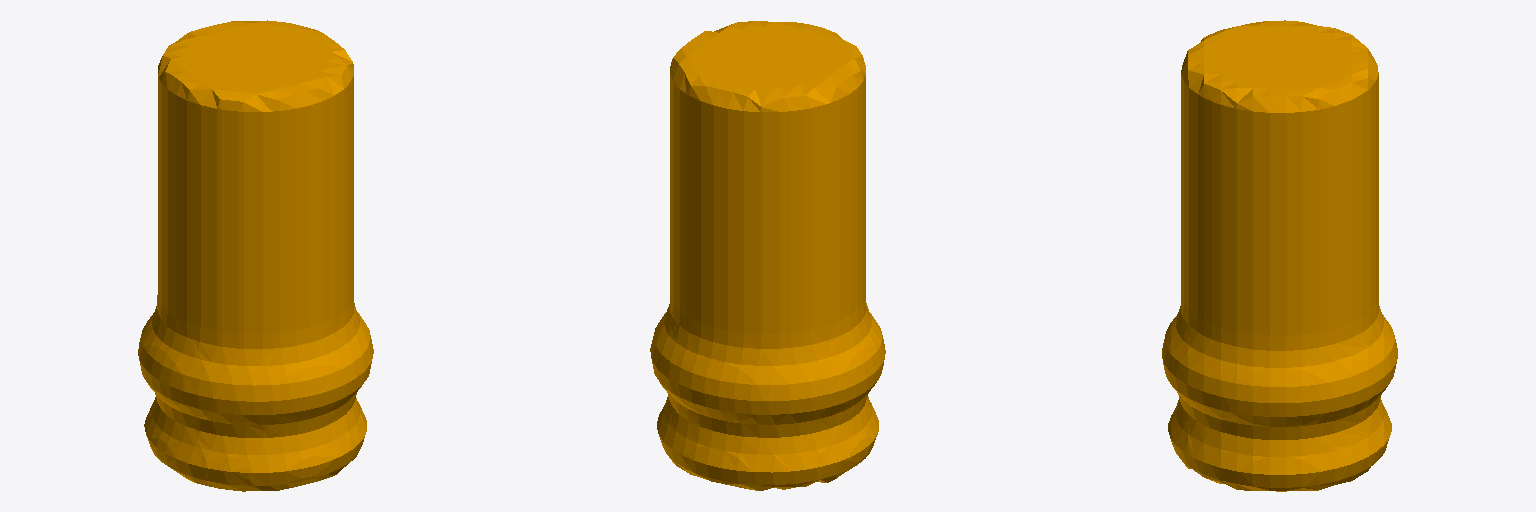
URDF robot description (cylinder_../../meshes/cylinders/cylinder_57.stl):
<?xml version="1.0" encoding="utf-8"?>  <robot name="cylinder_../../meshes/cylinders/cylinder_57.stl">   <link name="cylinder_../../meshes/cylinders/cylinder_57.stl">     <visual>       <geometry>         <mesh filename="../meshes/cylinders/cylinder_57.stl" scale="1 1 1"/>       </geometry>     </visual>     <collision>       <geometry>         <mesh filename="../meshes/cylinders/cylinder_57.stl" scale="1 1 1"/>       </geometry>     </collision>     <inertial>        <origin         xyz="0 0 0"         rpy="0 0 0" />       <mass value="0.4052027371093162"/>       <origin rpy="0 0 0" xyz="0 0 0"/>       <inertia ixx="0.0006986138518345117" ixy="-3.459705476784931e-08" ixz="3.5248258246727676e-08" iyy="0.00069861215583934" iyz="2.532620920128733e-08" izz="0.00019922195457953501"/>     </inertial>   </link>  </robot>

--- What the picture shows (computed from the rendered views, not written in the file) ---
The picture shows the robot from 3 angles, left to right: view 1: azimuth 30°, elevation 25°; view 2: azimuth 150°, elevation 25°; view 3: azimuth 270°, elevation 25°; orthographic projection.
Model cylinder_../../meshes/cylinders/cylinder_57.stl with 1 links and 0 joints (none), rooted at cylinder_../../meshes/cylinders/cylinder_57.stl, posed all joints at 0.
Visible links, largest first — view 1: cylinder_../../meshes/cylinders/cylinder_57.stl; view 2: cylinder_../../meshes/cylinders/cylinder_57.stl; view 3: cylinder_../../meshes/cylinders/cylinder_57.stl.
Boxes of the visible links, x1,y1,x2,y2 form: cylinder_../../meshes/cylinders/cylinder_57.stl: [138, 20, 373, 491]; cylinder_../../meshes/cylinders/cylinder_57.stl: [650, 21, 885, 490]; cylinder_../../meshes/cylinders/cylinder_57.stl: [1162, 20, 1397, 491].
Bounding box of the posed robot: 0.0721 × 0.0721 × 0.1335 m (x, y, z).
1 mesh visuals loaded from 1 distinct referenced files (1 binary STL).